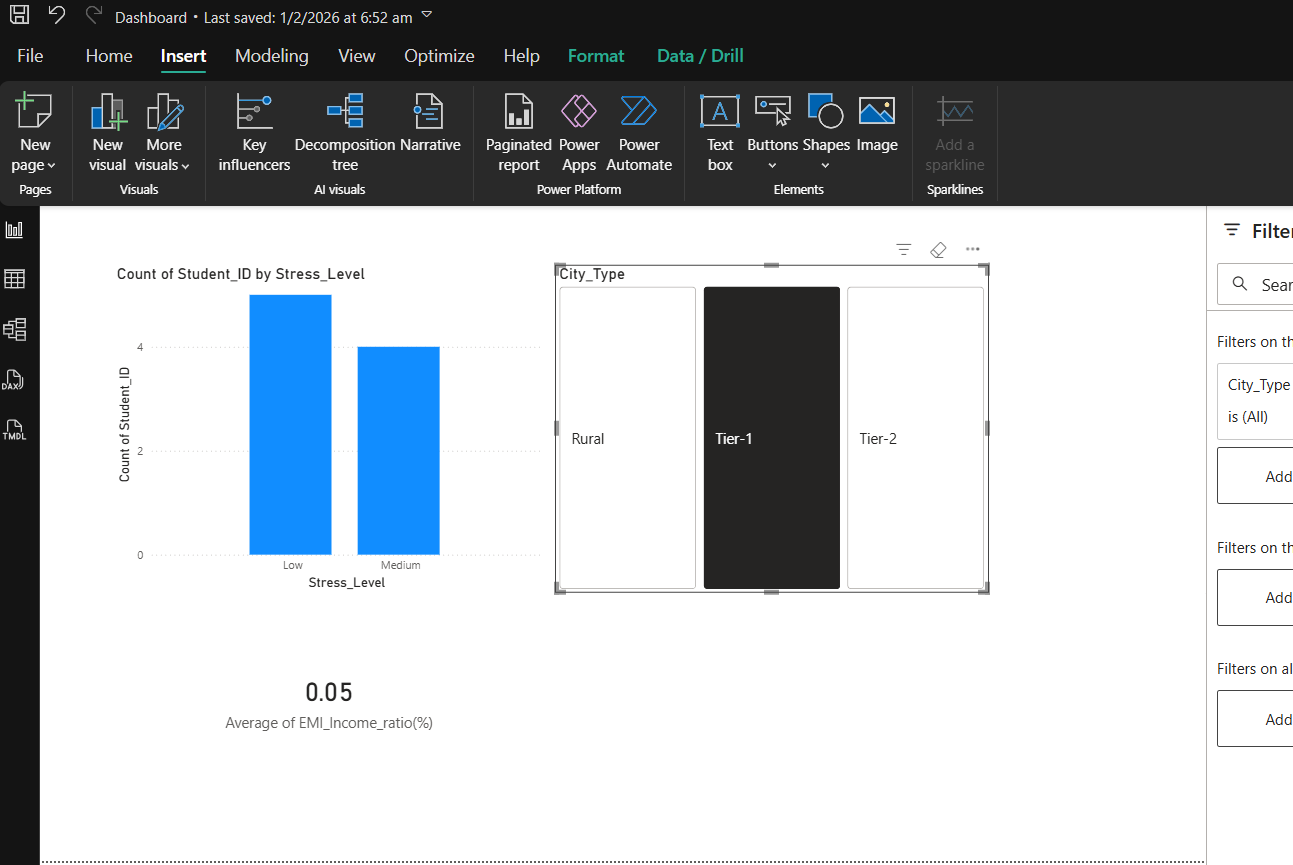

What the dashboard file says about the page in this screenshot:
{"tool":"powerbi","page":{"name":"Page 1","canvas":[1280,720],"ordinal":0},"visuals":[{"type":"card","fields":{"Values":["Avg(Sheet1.EMI_Income_ratio(%))"]},"box":[183.9,467.9,267.6,149.6],"z":3},{"type":"clusteredColumnChart","fields":{"Y":["CountNonNull(Sheet1.Student_ID)"],"Category":["Sheet1.Stress_Level"]},"box":[79.6,64.5,476.2,362.3],"z":4},{"type":"advancedSlicerVisual","fields":{"Values":["Sheet1.City_Type"]},"box":[566,64,476,362],"z":5}]}

Visuals, with their boxes on the page's 1280x720 design canvas (x1, y1, x2, y2). These are canvas units, not pixel positions in the 1293x865 screenshot, which may show the page scaled, cropped or inside an application window:
card - Avg(Sheet1.EMI_Income_ratio(%)): rect(184, 468, 452, 618)
clusteredColumnChart - CountNonNull(Sheet1.Student_ID) x Sheet1.Stress_Level: rect(80, 64, 556, 427)
advancedSlicerVisual - Sheet1.City_Type: rect(566, 64, 1042, 426)
